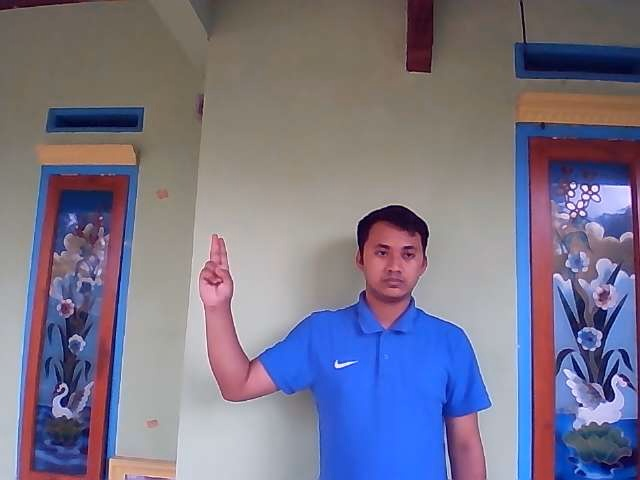U: (197, 234, 234, 305)
